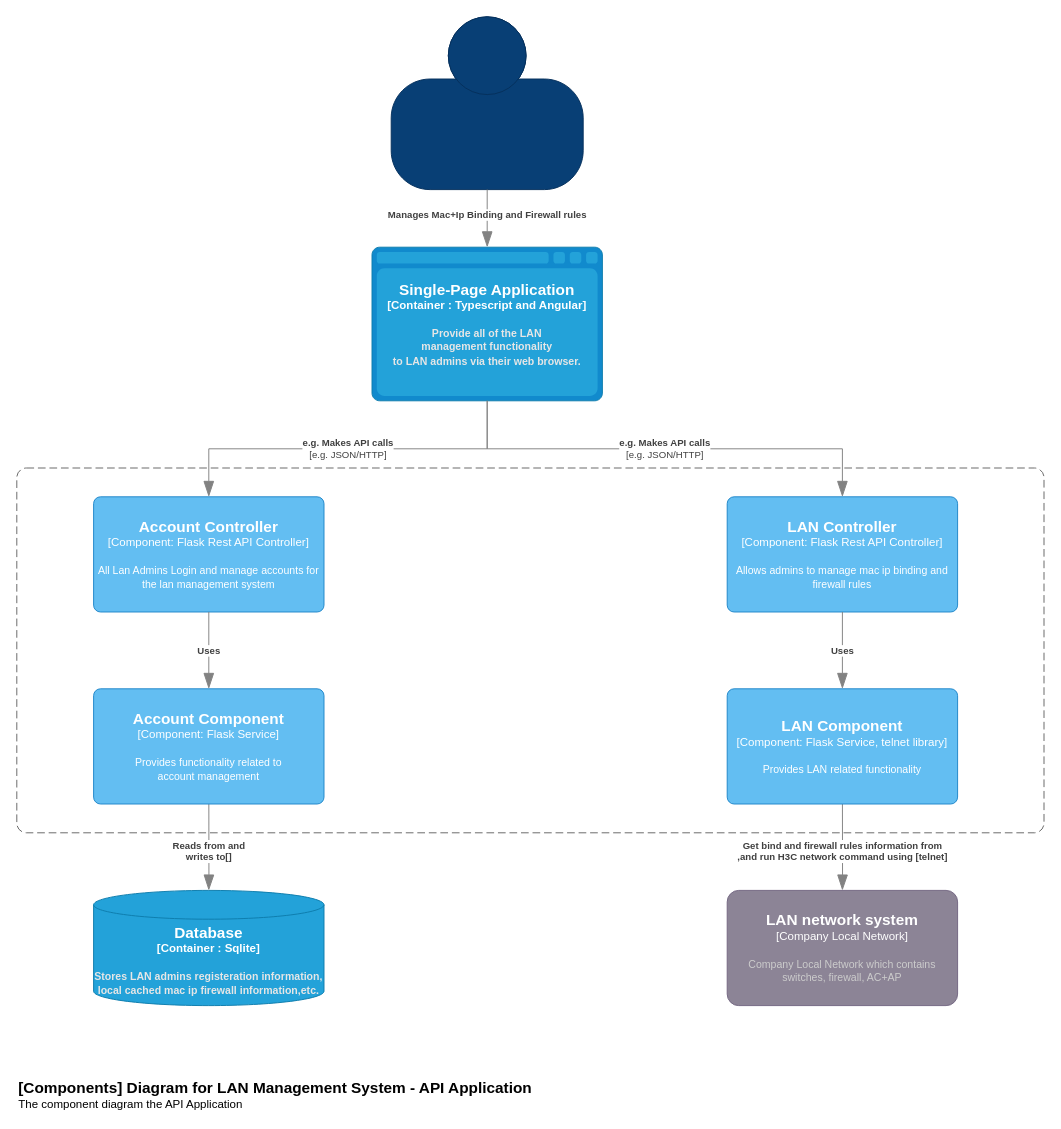
The diagram is 1061 pixels wide and 1129 high, and some of its shapes have lost their labels. The box of each missing label's shape, as (x1, y1, x2, y2) in pixels:
Container name [Container]: (16, 467, 1044, 833)
LAN Admin [Person] Peron who manages LAN: (390, 16, 583, 190)
